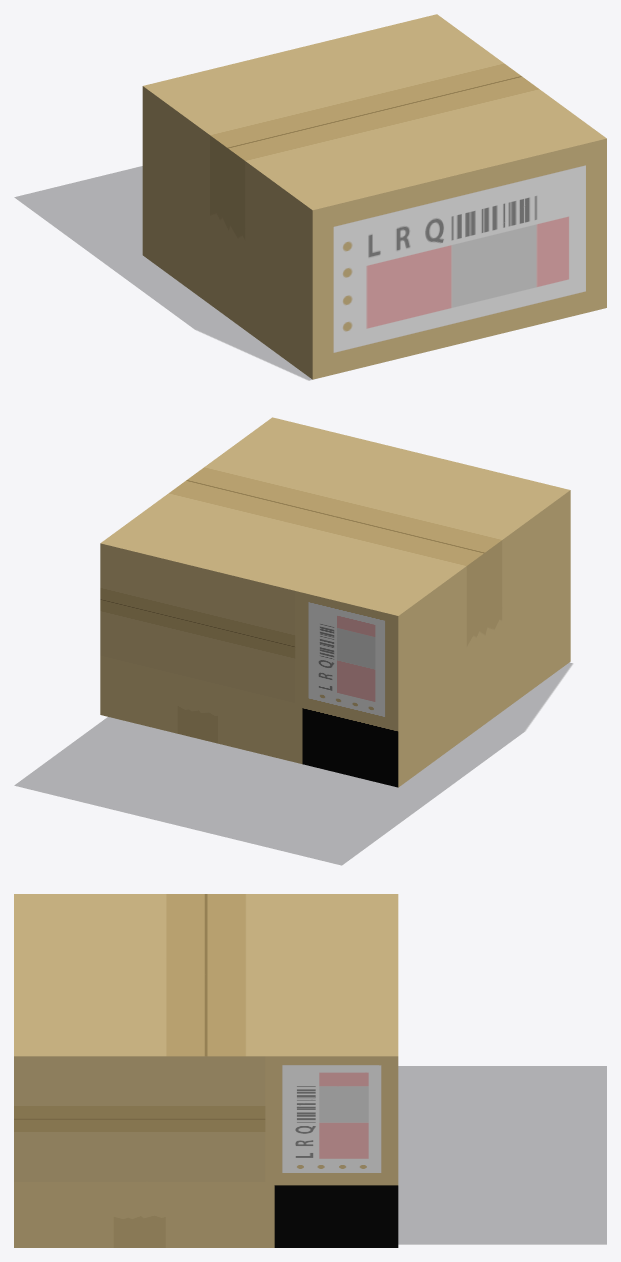
File: block_18.glb
The picture shows the model from 3 angles, top to bottom: view 1: azimuth 30°, elevation 25°; view 2: azimuth 150°, elevation 25°; view 3: azimuth 270°, elevation 25°; orthographic projection. The views are drawn at different scales.
Parts seen in each view (by area): view 1: hitObj, block; view 2: hitObj, block; view 3: hitObj, block.
Part boxes in pixels (bbox=[...]): hitObj: bbox=[142, 14, 606, 379]; block: bbox=[15, 166, 311, 380]; hitObj: bbox=[100, 417, 570, 787]; block: bbox=[15, 663, 572, 865]; hitObj: bbox=[14, 894, 398, 1247]; block: bbox=[398, 1066, 606, 1244].
Bounding box in the file's own units: 11.24 × 5.52 × 15.43.
2 materials, 2 textured.
